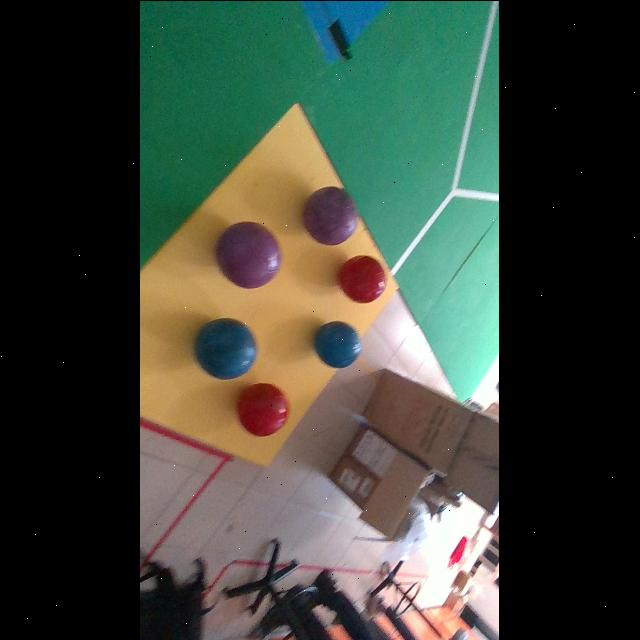B: (196, 317, 258, 378), (339, 255, 387, 303), (316, 320, 363, 368)
